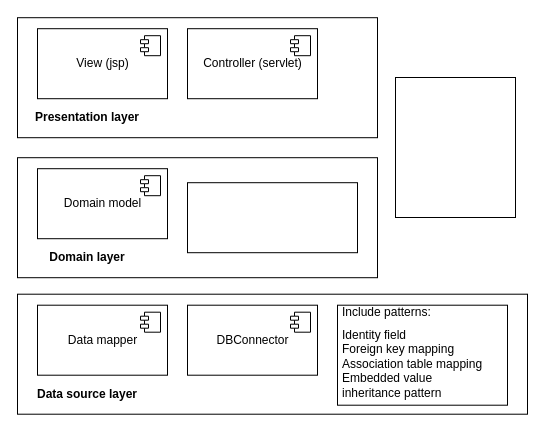
The diagram is 555 pixels wide and 432 high, and some of its shapes have lost their labels. The shapes that lost their labels are listed below. From the top down, each one's centre as x and y in pixels, then its label:
At point 455,147: "Service layer".
At point 272,217: "Include patterns: Domain model Unit of work Lazy load".
